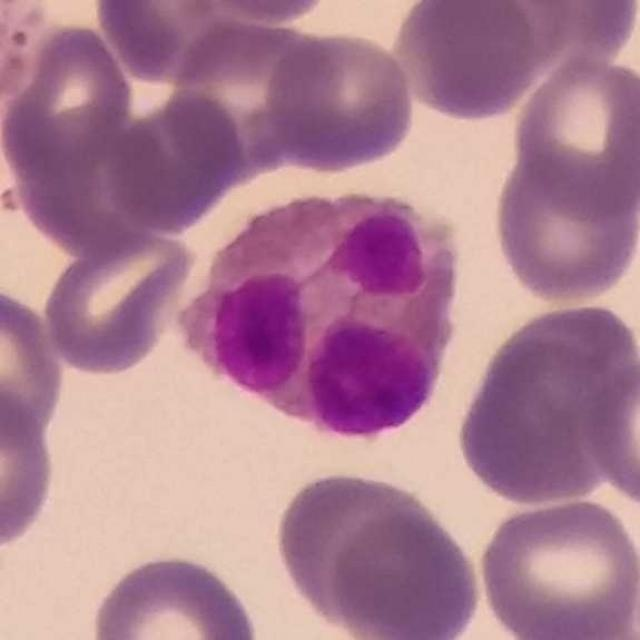eosino: (176, 192, 460, 438)
